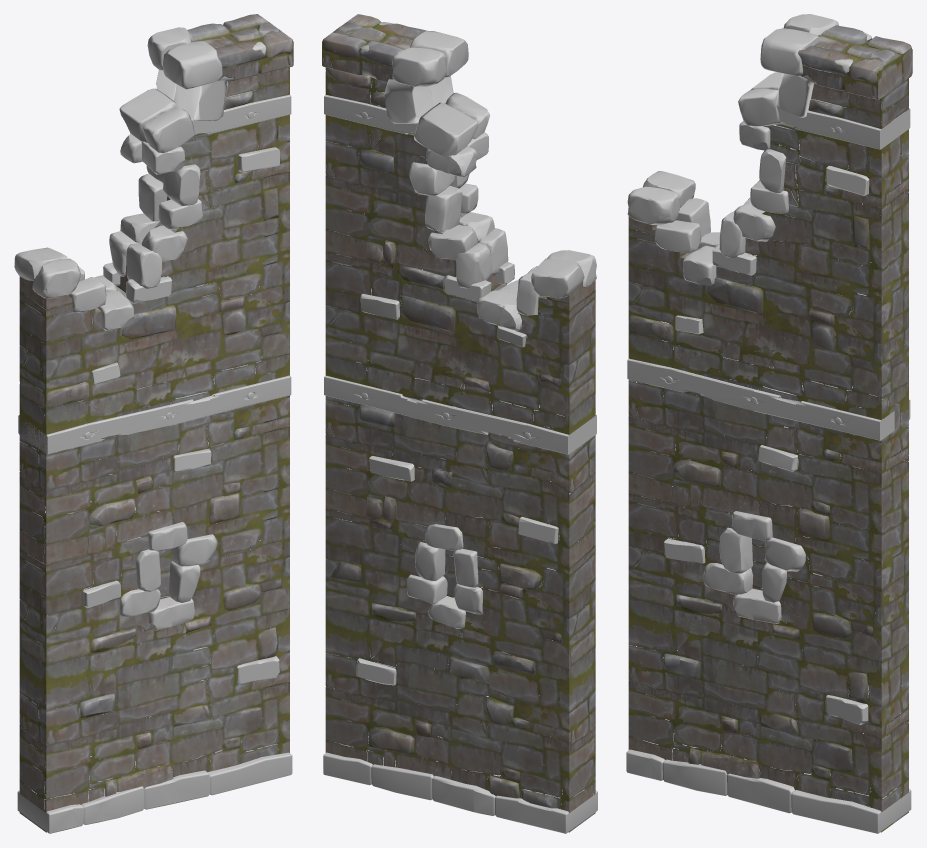
3 views of the same model, side by side, from view 1: azimuth 30°, elevation 25°; view 2: azimuth 150°, elevation 25°; view 3: azimuth 330°, elevation 25° (orthographic). The views are drawn at different scales.
Visible parts, largest first — view 1: SM_Castle_Wall_4x12_01_Dmg_v2_LOD0; view 2: SM_Castle_Wall_4x12_01_Dmg_v2_LOD0; view 3: SM_Castle_Wall_4x12_01_Dmg_v2_LOD0.
Boxes of the visible parts, x1,y1,x2,y2 form: SM_Castle_Wall_4x12_01_Dmg_v2_LOD0: (14, 14, 293, 833); SM_Castle_Wall_4x12_01_Dmg_v2_LOD0: (322, 14, 597, 833); SM_Castle_Wall_4x12_01_Dmg_v2_LOD0: (626, 14, 912, 833).
Bounding box in the file's own units: 4.05 × 11.62 × 1.17.
